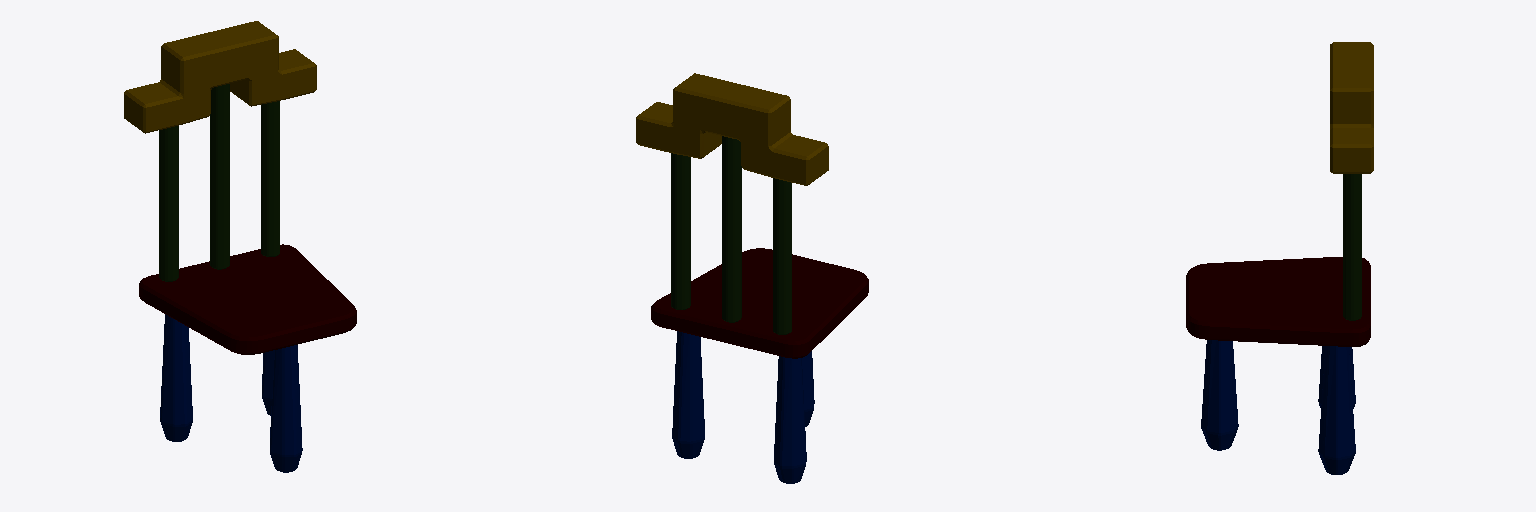
The model's file is chairobjectcolor.obj.
The picture shows the model from 3 angles: view 1: azimuth 30°, elevation 25°; view 2: azimuth 150°, elevation 25°; view 3: azimuth 270°, elevation 25°; orthographic projection.
Parts seen in each view (by area): view 1: seat, head, back1, leg1, leg3, back3, back2, leg2; view 2: seat, head, back1, leg3, leg2, back2, back3, leg1; view 3: seat, head, leg2, leg1, back2.
Boxes of the visible parts, x1=… form: seat: x1=139, y1=244, x2=356, y2=354; head: x1=124, y1=21, x2=316, y2=133; back1: x1=210, y1=84, x2=229, y2=269; leg1: x1=270, y1=345, x2=302, y2=472; leg3: x1=160, y1=314, x2=192, y2=441; back3: x1=159, y1=126, x2=178, y2=281; back2: x1=261, y1=101, x2=279, y2=256; leg2: x1=262, y1=350, x2=273, y2=415; seat: x1=651, y1=248, x2=868, y2=358; head: x1=636, y1=73, x2=828, y2=185; back1: x1=722, y1=136, x2=741, y2=322; leg3: x1=774, y1=356, x2=806, y2=483; leg2: x1=672, y1=331, x2=704, y2=458; back2: x1=671, y1=153, x2=690, y2=309; back3: x1=773, y1=178, x2=791, y2=334; leg1: x1=802, y1=351, x2=814, y2=426; seat: x1=1186, y1=257, x2=1370, y2=346; head: x1=1330, y1=42, x2=1373, y2=173; leg2: x1=1318, y1=346, x2=1355, y2=474; leg1: x1=1201, y1=340, x2=1238, y2=450; back2: x1=1343, y1=174, x2=1361, y2=320.
Size of the model in its own units: 6.85 by 14.35 by 6.38.